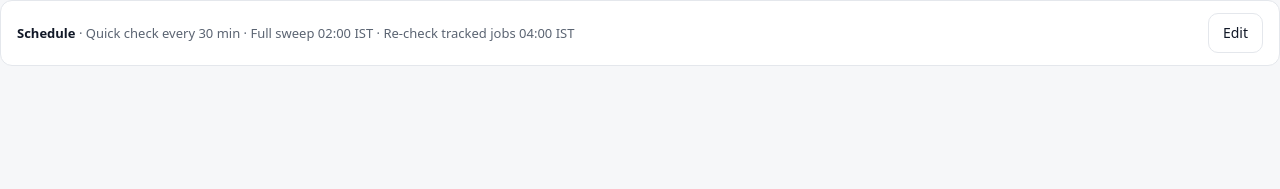
Test case: shows why a schedule was refused, and keeps the form open
Click the button with aria-label "Edit schedule": (1235, 33) x1=1208 y1=13 x2=1263 y2=53
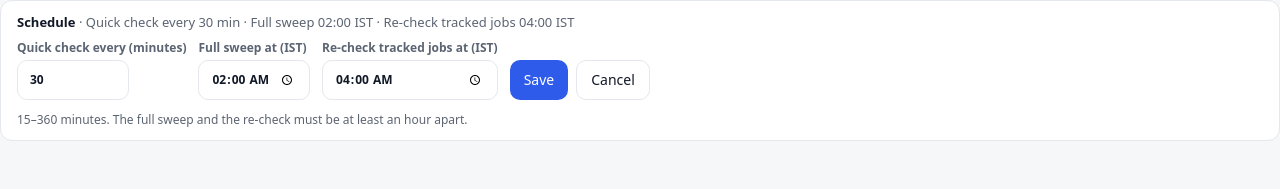
Replace the text in the number field labelled "Quick check every (minutes)" with "5": (73, 80) x1=17 y1=60 x2=129 y2=100
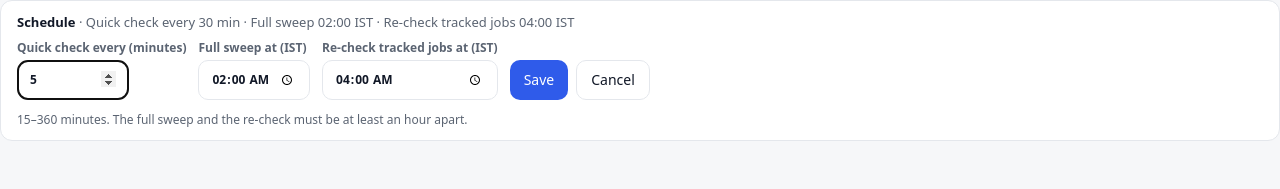
Click the button "Save": (539, 80) x1=510 y1=60 x2=568 y2=100
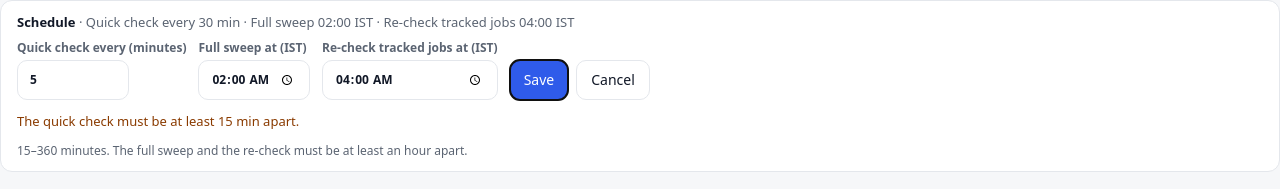
Check: the button "Save" is shown, box x1=510 y1=60 x2=568 y2=100
Check: the message shows "at least 15 min apart", box x1=17 y1=112 x2=299 y2=130
